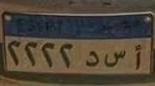2: (41, 40, 57, 69), (6, 39, 22, 68), (59, 42, 74, 69), (24, 41, 38, 67)
alif: (132, 43, 144, 74)
daal: (84, 50, 100, 68)
seen: (103, 47, 127, 70)
